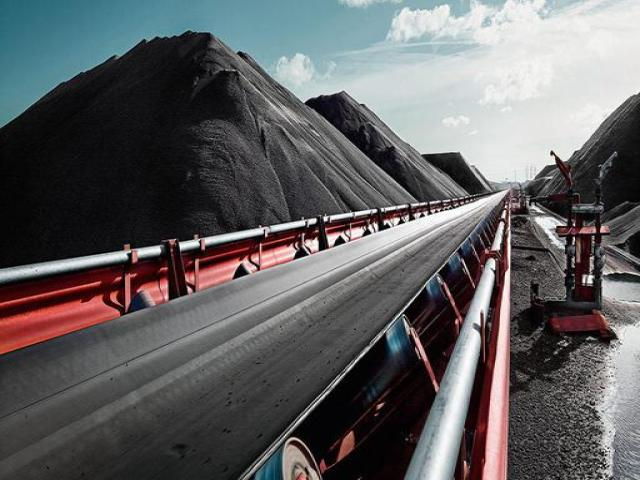conveyor: (0, 186, 518, 479)
